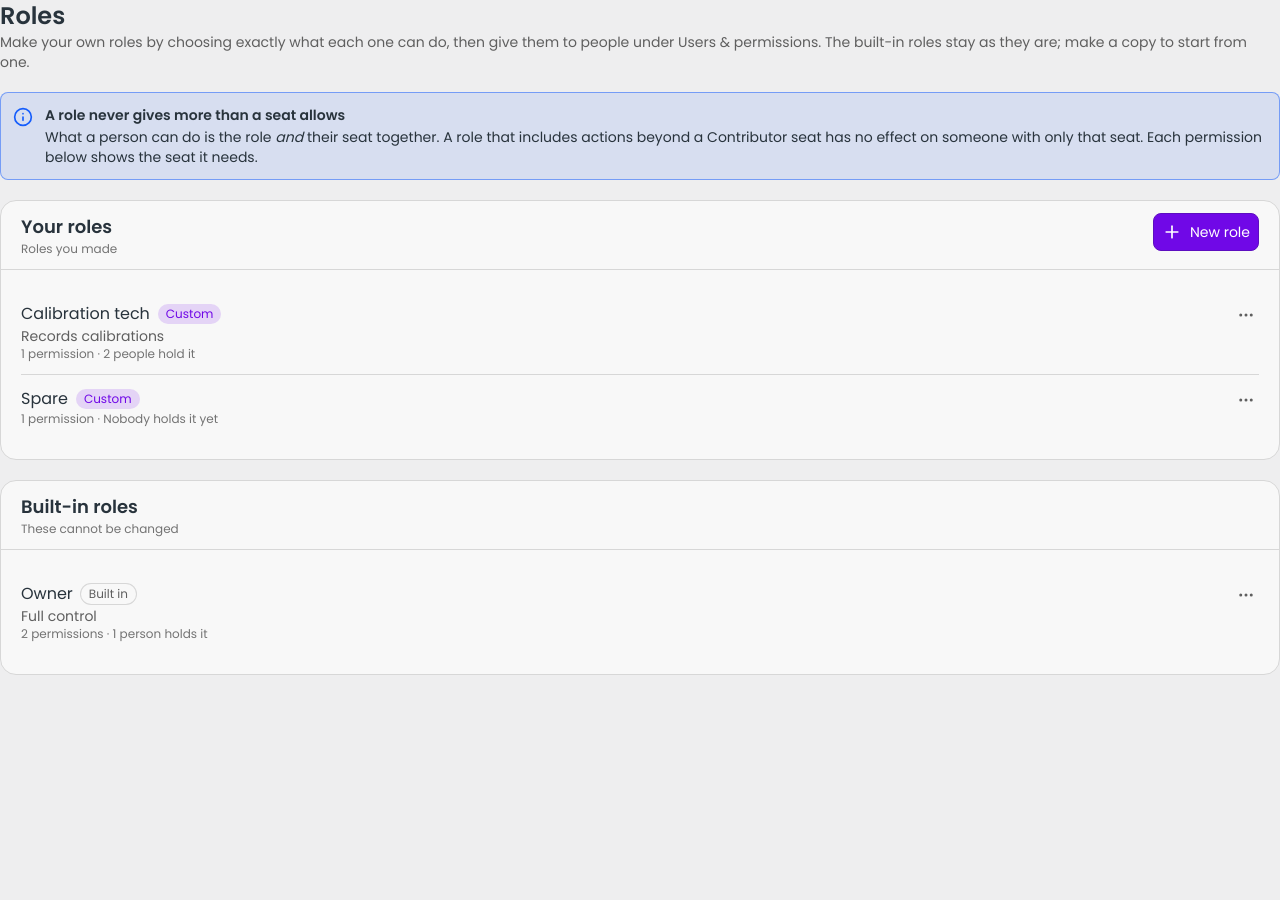
Scenario: Settings → Roles › does not save over a change someone else made since the window opened
Click the button named "Actions" in the row of "Calibration tech": click(1246, 315) top-left (1233, 302), bottom-right (1259, 328)
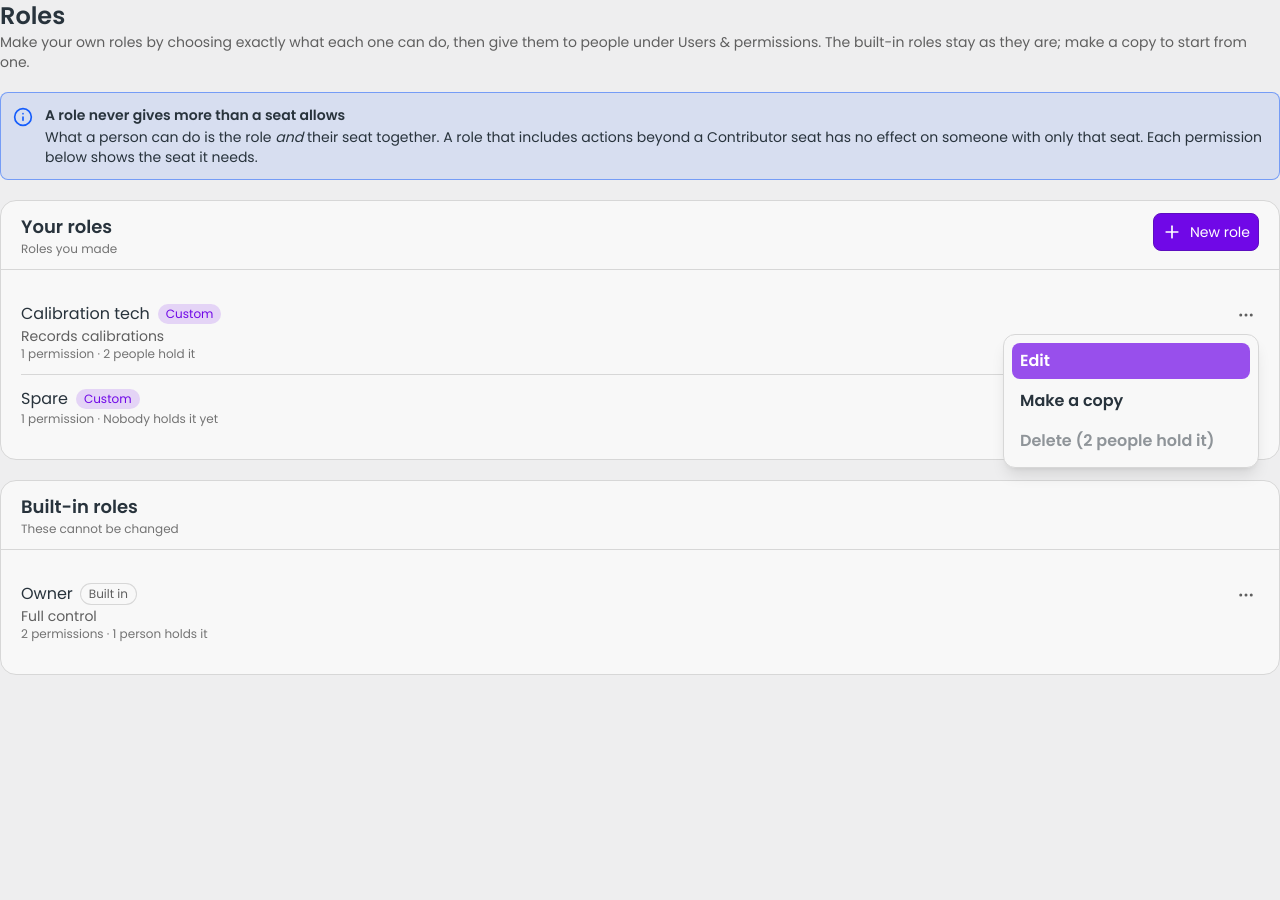
Click the menu item "Edit": click(1131, 361) top-left (1012, 343), bottom-right (1250, 379)
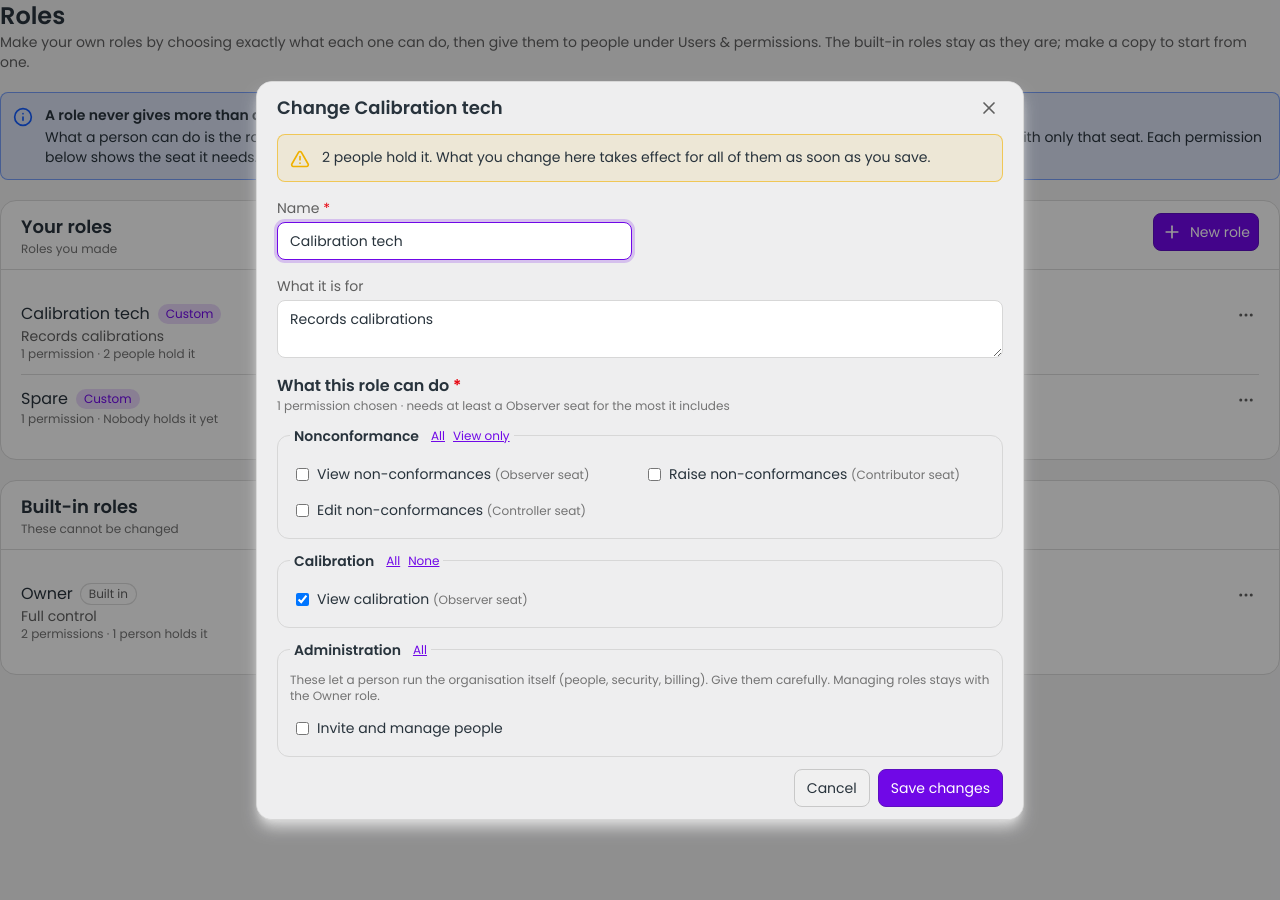
Click the button "Save changes": click(940, 788) top-left (878, 768), bottom-right (1003, 806)
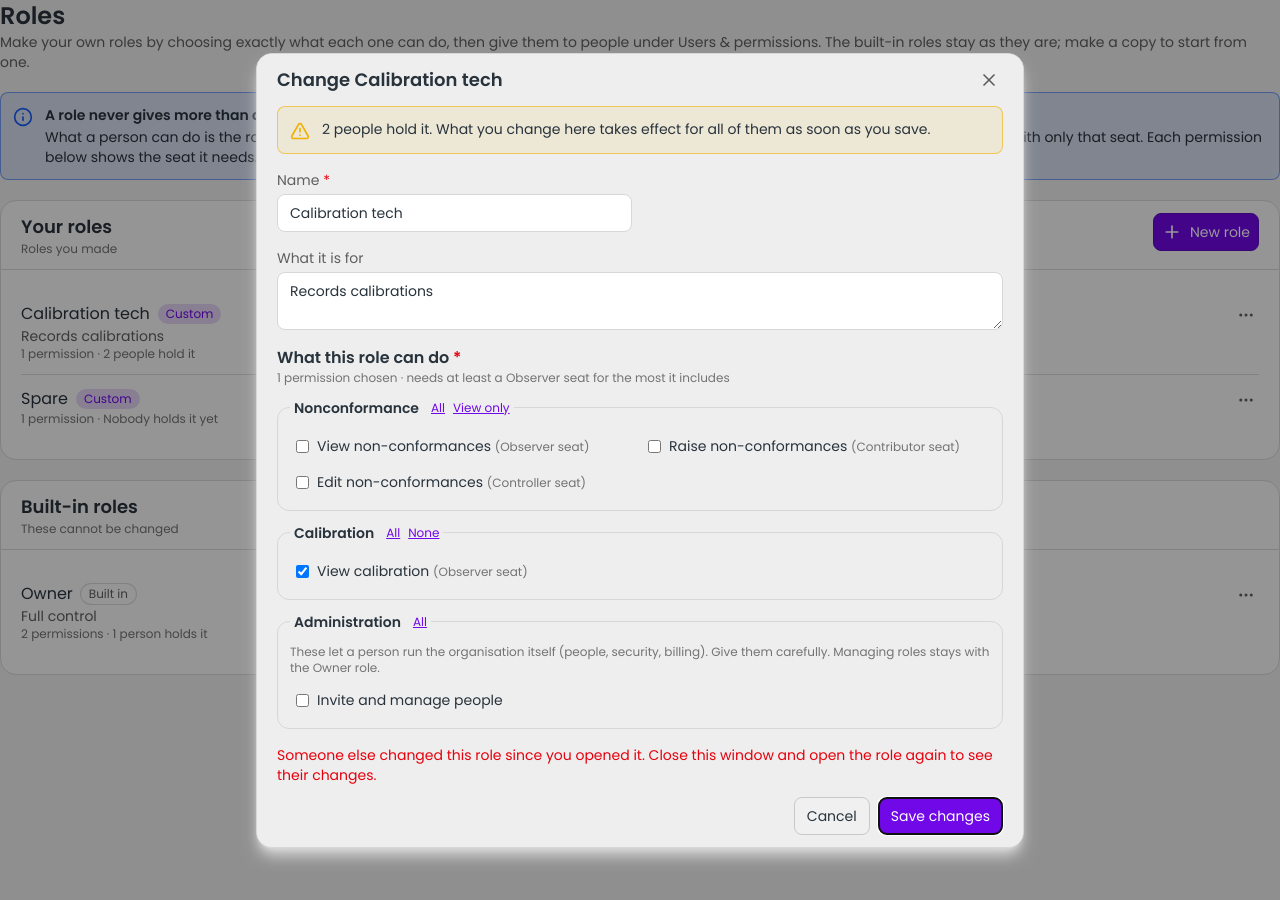
Expected: the 2nd message shows "Someone else changed this role since you opened it", top-left (277, 744), bottom-right (993, 784)
